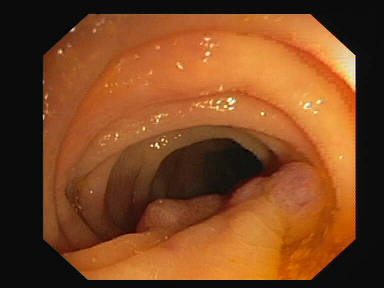polyp: (128, 158, 337, 236)
